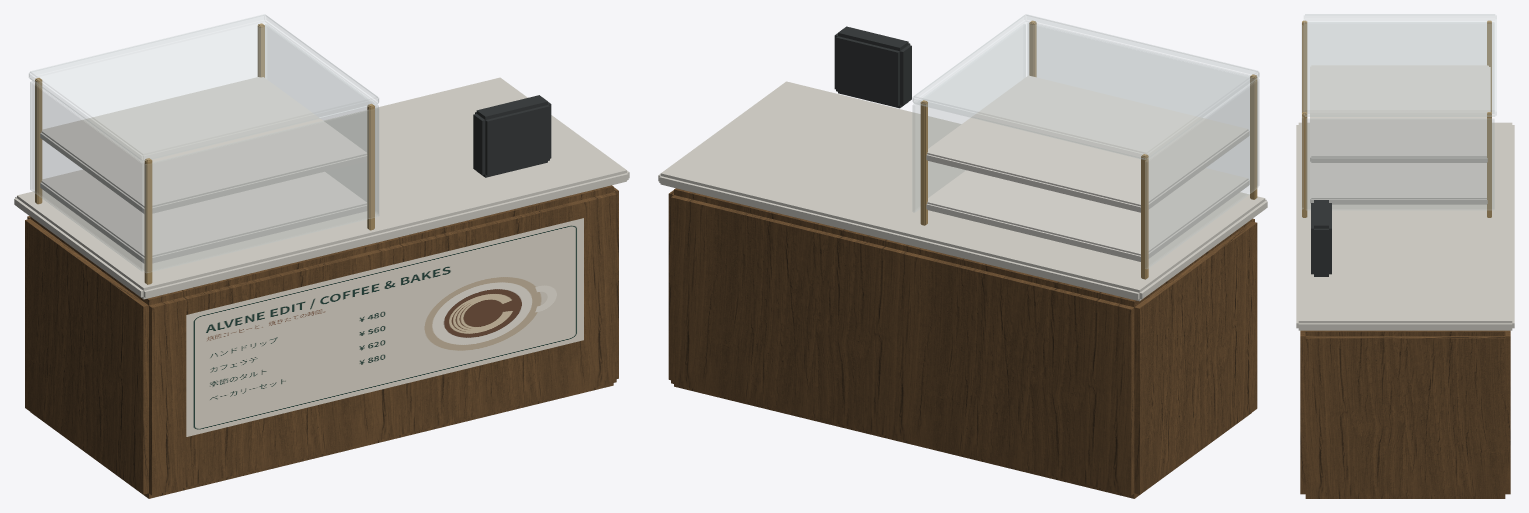
File: fixture_v23_order_counter.glb
3 views of the same model, side by side, from view 1: azimuth 30°, elevation 25°; view 2: azimuth 150°, elevation 25°; view 3: azimuth 270°, elevation 25° (orthographic). The views are drawn at different scales.
Visible parts, largest first — view 1: fixture_v23_order_counter_CC0_Oak_veneer, fixture_v23_order_counter_Shop_display_glass, fixture_v23_order_counter_V23_original_cafe_menu, fixture_v23_order_counter_Warm_white_coating, fixture_v23_order_counter_Honed_solid_surface, fixture_v23_order_counter_Anodised_graphite, fixture_v23_order_counter_Satin_champagne; view 2: fixture_v23_order_counter_CC0_Oak_veneer, fixture_v23_order_counter_Shop_display_glass, fixture_v23_order_counter_Honed_solid_surface, fixture_v23_order_counter_Warm_white_coating, fixture_v23_order_counter_Anodised_graphite, fixture_v23_order_counter_Satin_champagne; view 3: fixture_v23_order_counter_Shop_display_glass, fixture_v23_order_counter_CC0_Oak_veneer, fixture_v23_order_counter_Honed_solid_surface, fixture_v23_order_counter_Warm_white_coating, fixture_v23_order_counter_Satin_champagne, fixture_v23_order_counter_Anodised_graphite.
Part boxes in pixels (x1=…): fixture_v23_order_counter_CC0_Oak_veneer: x1=25, y1=185, x2=618, y2=498; fixture_v23_order_counter_Shop_display_glass: x1=29, y1=14, x2=378, y2=272; fixture_v23_order_counter_V23_original_cafe_menu: x1=186, y1=218, x2=583, y2=436; fixture_v23_order_counter_Warm_white_coating: x1=40, y1=77, x2=367, y2=263; fixture_v23_order_counter_Honed_solid_surface: x1=14, y1=77, x2=629, y2=299; fixture_v23_order_counter_Anodised_graphite: x1=473, y1=95, x2=551, y2=177; fixture_v23_order_counter_Satin_champagne: x1=35, y1=23, x2=374, y2=284; fixture_v23_order_counter_CC0_Oak_veneer: x1=668, y1=188, x2=1257, y2=498; fixture_v23_order_counter_Shop_display_glass: x1=912, y1=14, x2=1259, y2=268; fixture_v23_order_counter_Honed_solid_surface: x1=658, y1=81, x2=1267, y2=301; fixture_v23_order_counter_Warm_white_coating: x1=926, y1=75, x2=1249, y2=261; fixture_v23_order_counter_Anodised_graphite: x1=834, y1=26, x2=911, y2=108; fixture_v23_order_counter_Satin_champagne: x1=920, y1=20, x2=1257, y2=279; fixture_v23_order_counter_Shop_display_glass: x1=1301, y1=14, x2=1496, y2=210; fixture_v23_order_counter_CC0_Oak_veneer: x1=1300, y1=330, x2=1510, y2=498; fixture_v23_order_counter_Honed_solid_surface: x1=1296, y1=122, x2=1514, y2=330; fixture_v23_order_counter_Warm_white_coating: x1=1310, y1=65, x2=1490, y2=204; fixture_v23_order_counter_Satin_champagne: x1=1302, y1=20, x2=1491, y2=217; fixture_v23_order_counter_Anodised_graphite: x1=1311, y1=200, x2=1331, y2=276.
Bounding box in the file's own units: 2.26 × 1.53 × 1.04.
7 materials, 2 textured.
